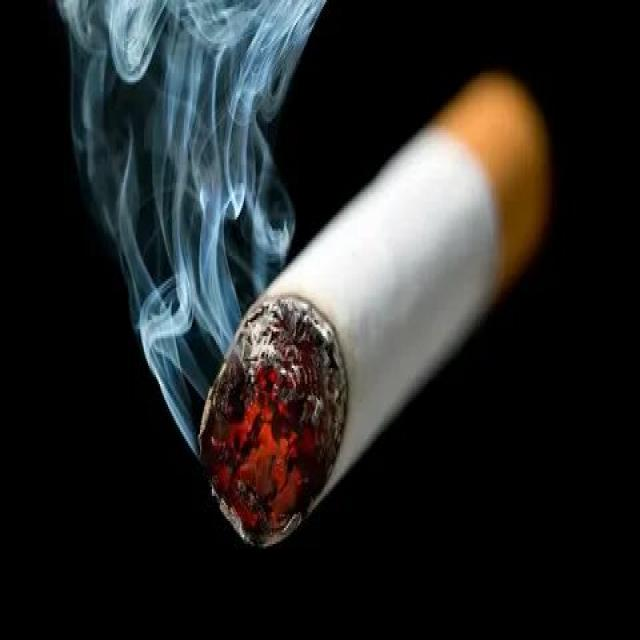cigarette: (185, 57, 551, 578)
